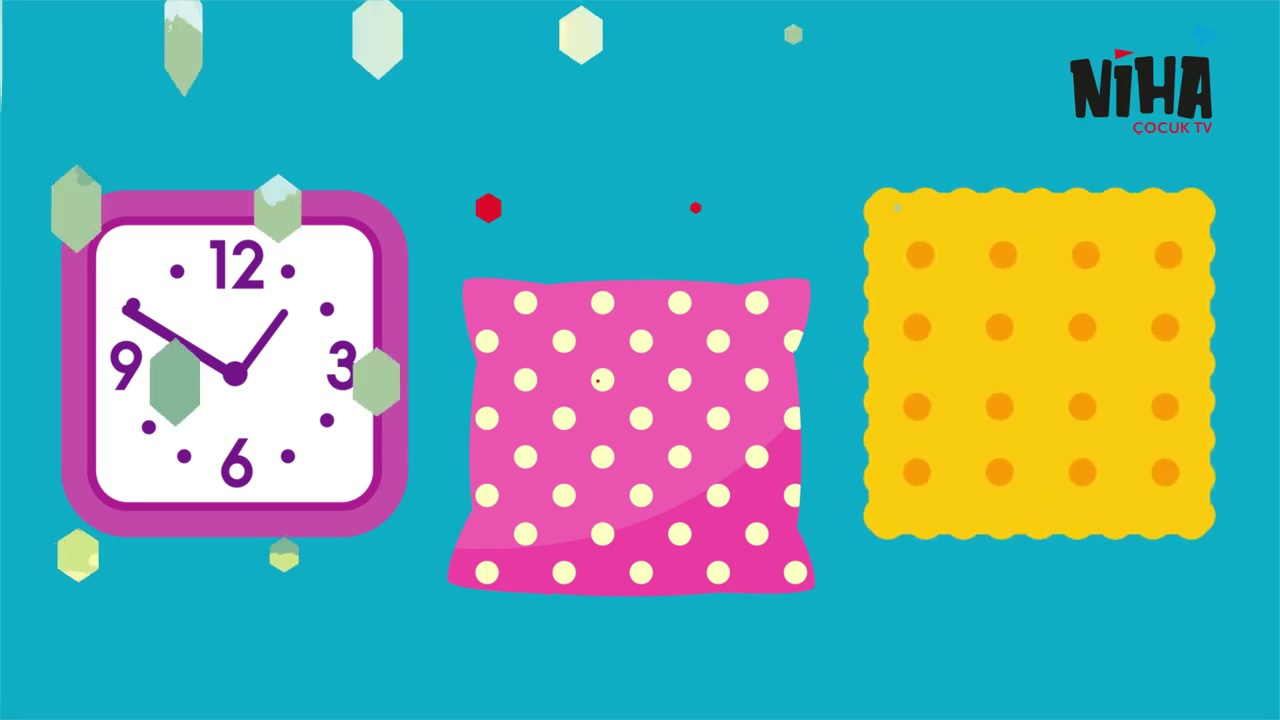kare: (859, 180, 1225, 554), (46, 189, 426, 541), (446, 271, 827, 609)
